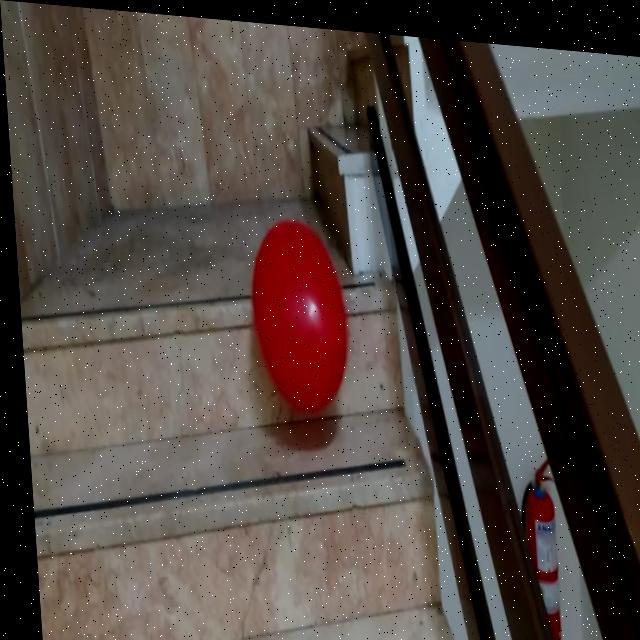balloon: (234, 195, 361, 430)
